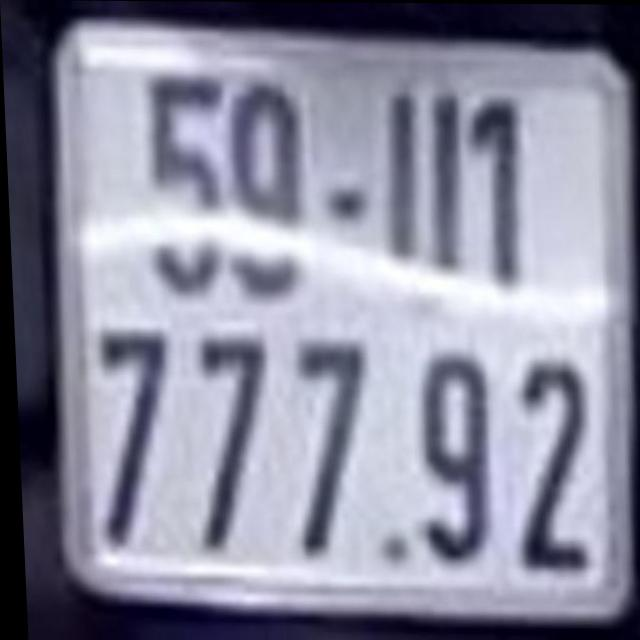1: (466, 93, 537, 327)
2: (513, 353, 588, 575)
5: (142, 71, 225, 294)
7: (285, 335, 373, 552), (91, 326, 168, 549), (197, 330, 269, 547)
9: (223, 80, 312, 294), (416, 348, 497, 564)
U: (383, 86, 467, 322)
